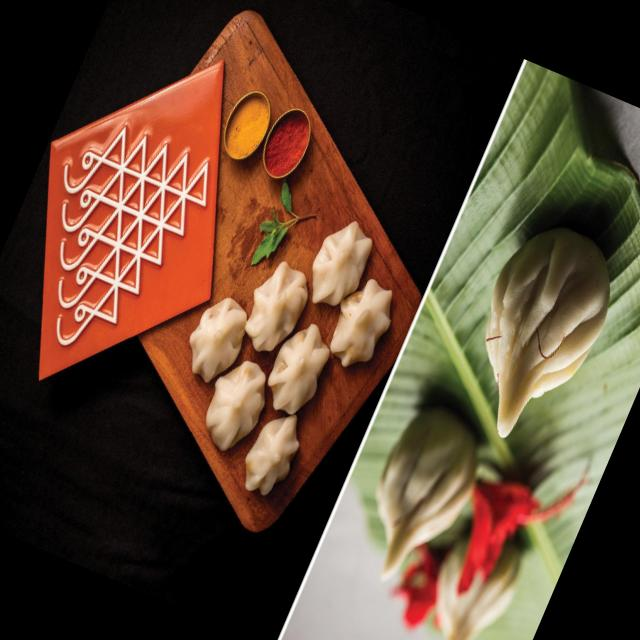modak: (438, 208, 634, 462), (334, 398, 500, 606), (400, 522, 539, 640), (182, 345, 282, 478), (314, 267, 406, 383), (230, 401, 321, 516), (255, 312, 342, 423), (228, 254, 316, 361), (174, 288, 257, 394), (298, 214, 379, 312)
